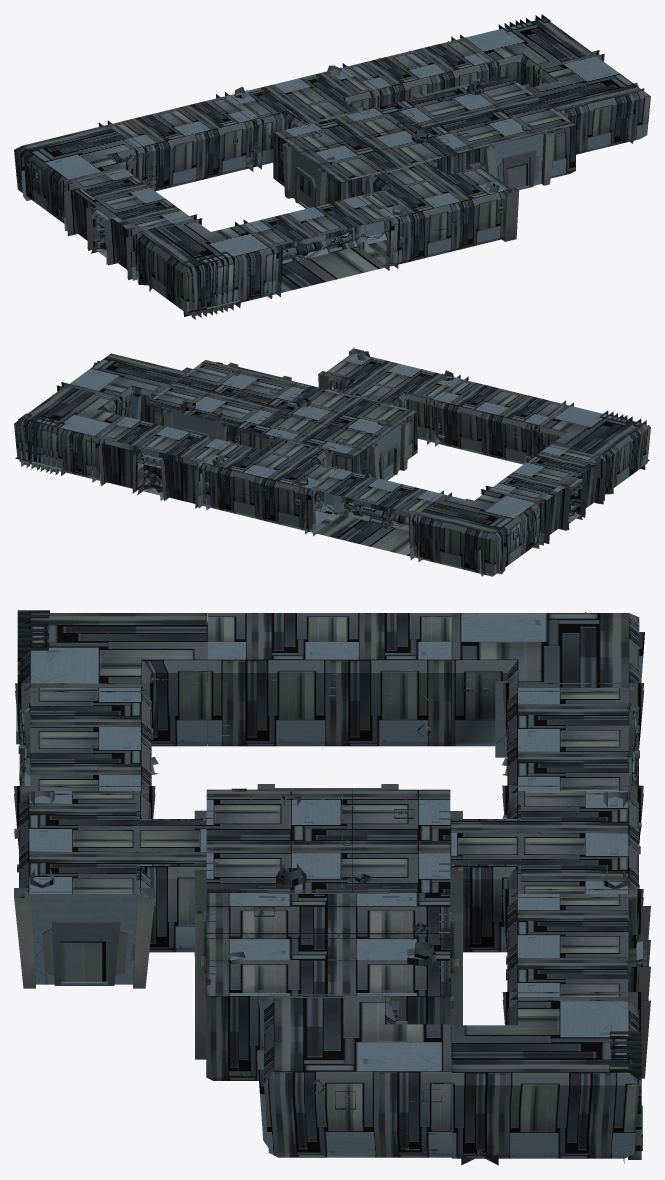
Rendered from Combined_Mesh_root_scene__5_130fafea__zombies2_diffuse_03_64bb9bc2_c1f257.obj.
The picture shows the model from 3 angles, top to bottom: view 1: azimuth 30°, elevation 25°; view 2: azimuth 150°, elevation 25°; view 3: azimuth 270°, elevation 25°; orthographic projection. The views are drawn at different scales.
Bounding box in the file's own units: 92.31 × 9.64 × 52.29.
Materials: 179 (179 with a texture image).
